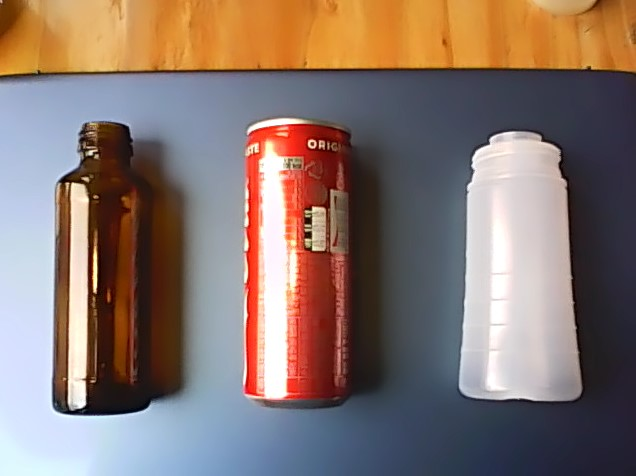Can: (235, 114, 358, 412)
Glass: (47, 112, 155, 417)
Plastic: (452, 125, 586, 404)
